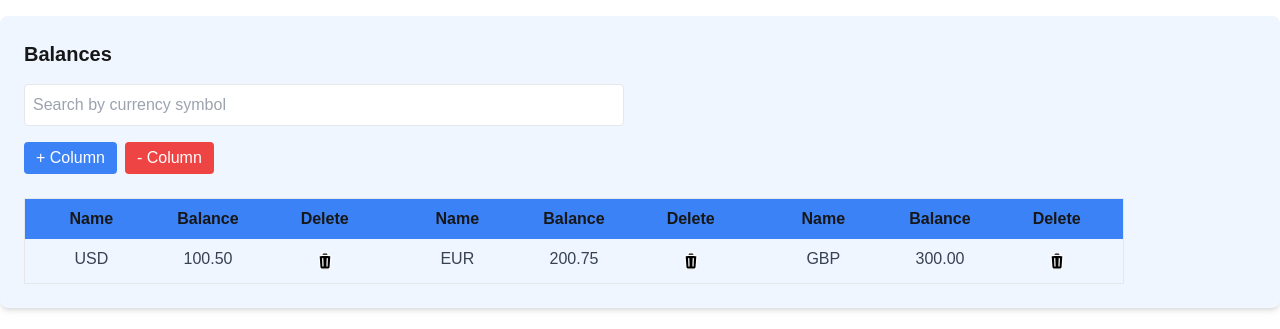
it: BalanceTable Component › deletes the first currency row when delete button is clicked
This screenshot has width=1280, height=329.
What coordinates should you click on to do the following:
click the button named "delete-icon" next to "100.50"
I would click on:
 (325, 261)
Its box is x1=311 y1=247 x2=339 y2=275.
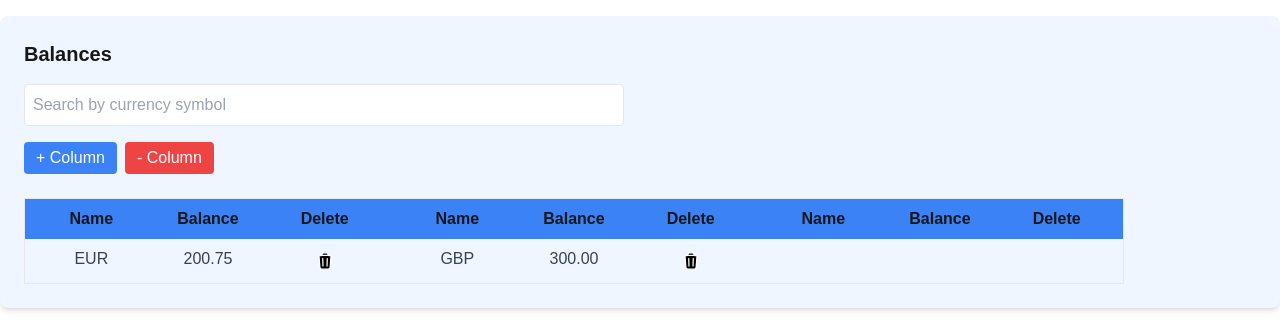
Expected: the text "USD" is gone
